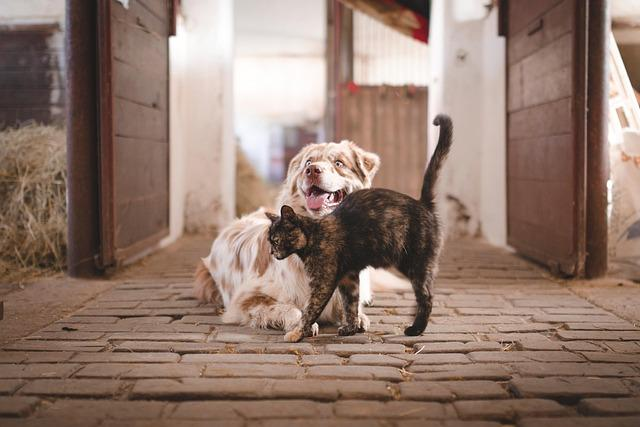Non_Gorille: (144, 43, 532, 381)
